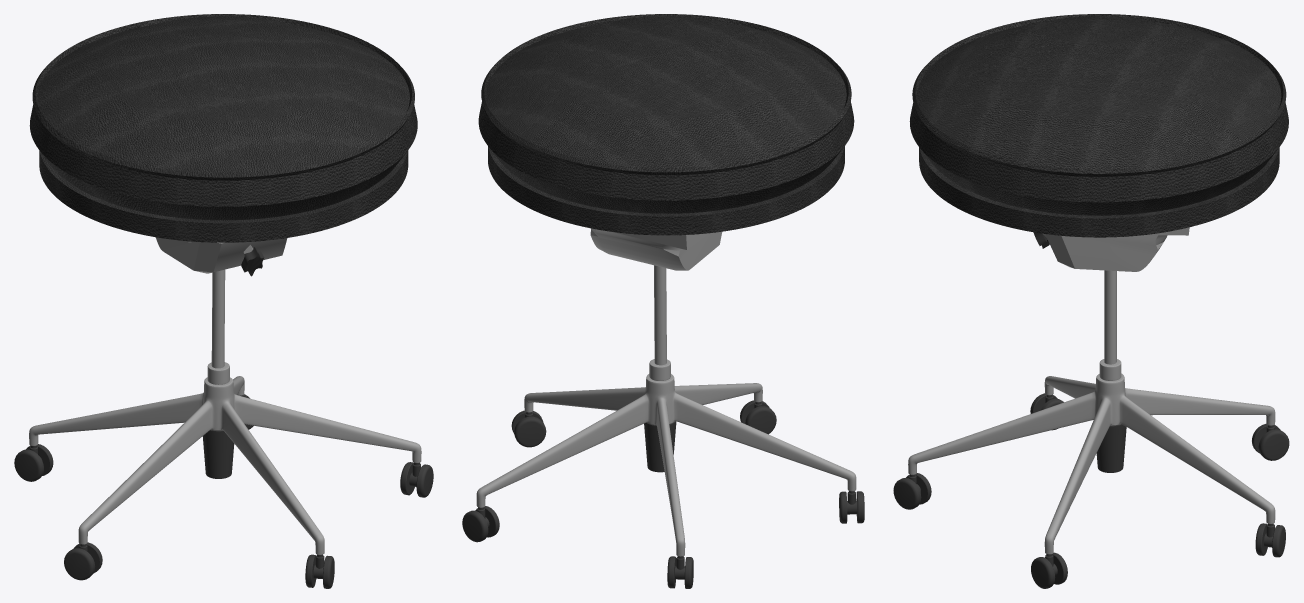
3 views of the same model, side by side, from view 1: azimuth 30°, elevation 25°; view 2: azimuth 150°, elevation 25°; view 3: azimuth 270°, elevation 25° (orthographic). The views are drawn at different scales.
Parts seen in each view (by area): view 1: 椅子; view 2: 椅子; view 3: 椅子.
Part boxes in pixels (x1,y1,x2,y2): 椅子: (14, 14, 433, 588); 椅子: (462, 14, 864, 588); 椅子: (893, 14, 1289, 588).
Bounding box in the file's own units: 36.9 × 44.44 × 35.35.
